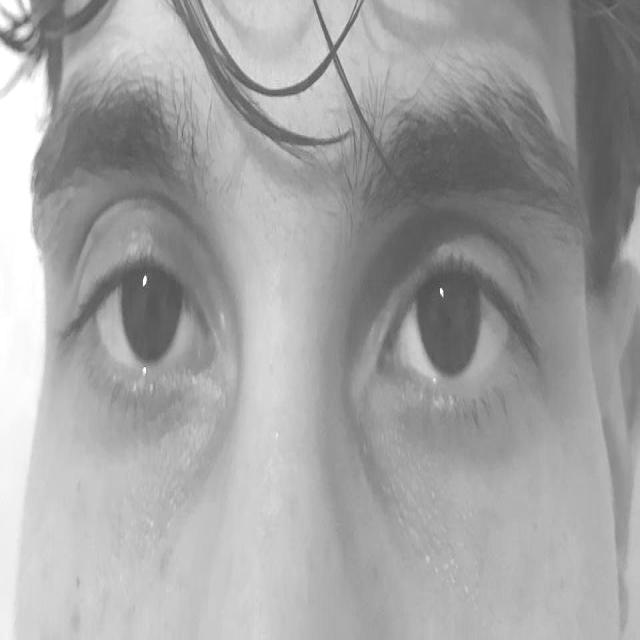real: (40, 130, 580, 468)
